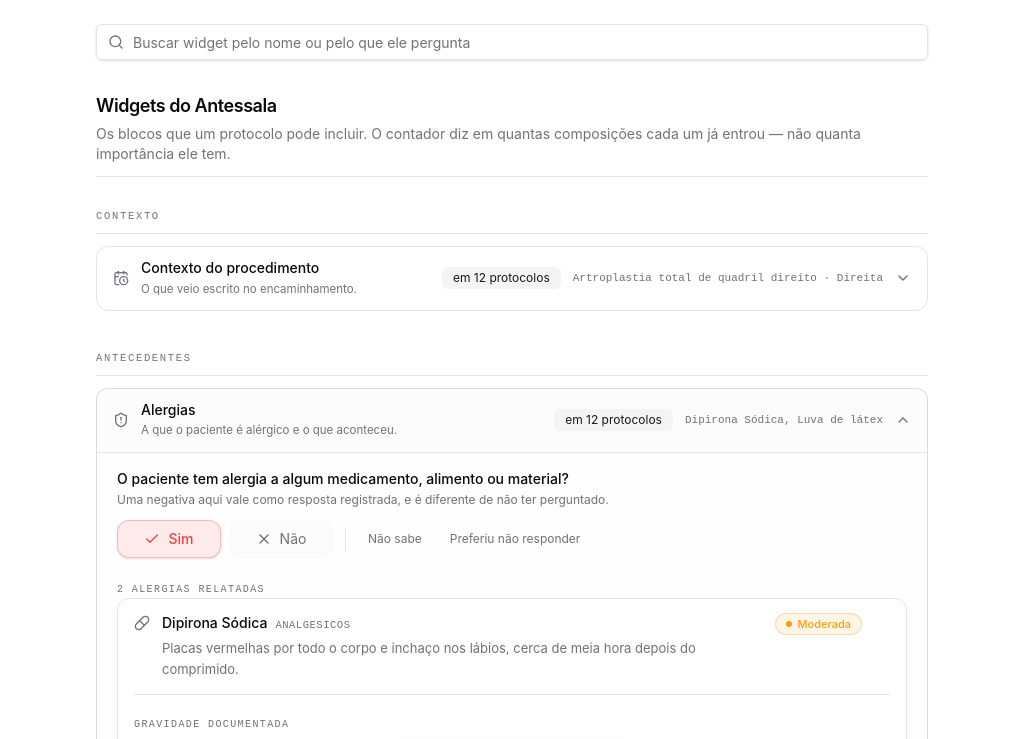
Test: Repertório › Widgets › busca sem resultado avisa em vez de mostrar tela vazia
Step 1. Type "colonoscopia virtual" into the field with placeholder "Buscar widget pelo nome ou pelo que ele pergunta" → (512, 42), box x1=96 y1=24 x2=928 y2=60
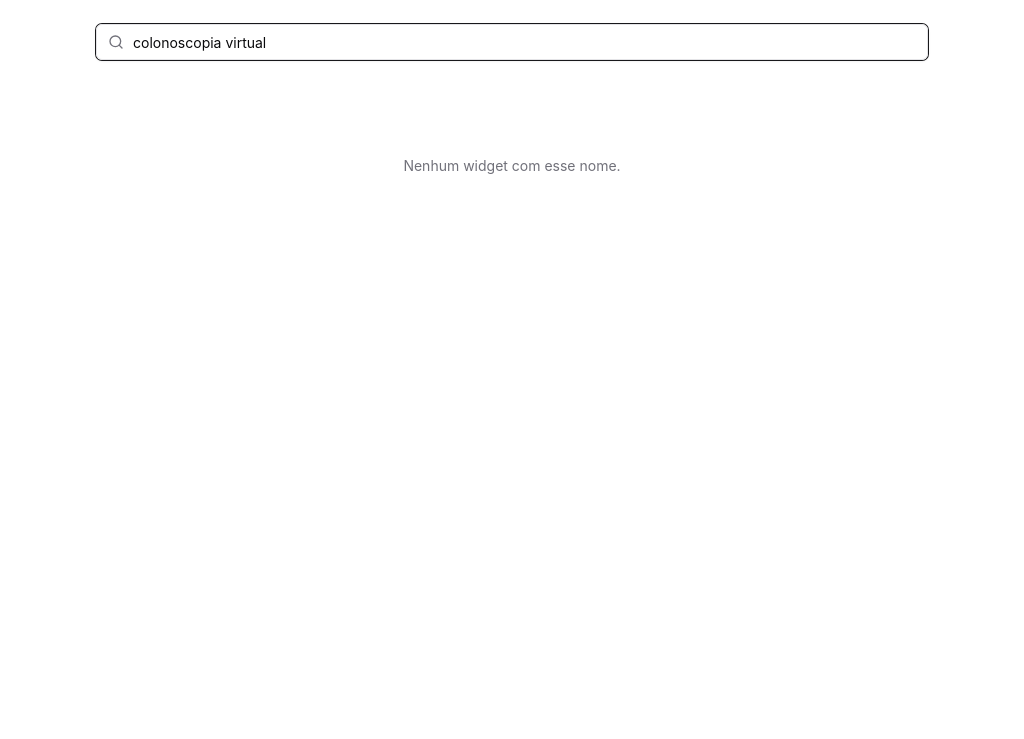
Now the text "Nenhum widget com esse nome." is shown, box x1=403 y1=157 x2=621 y2=174
